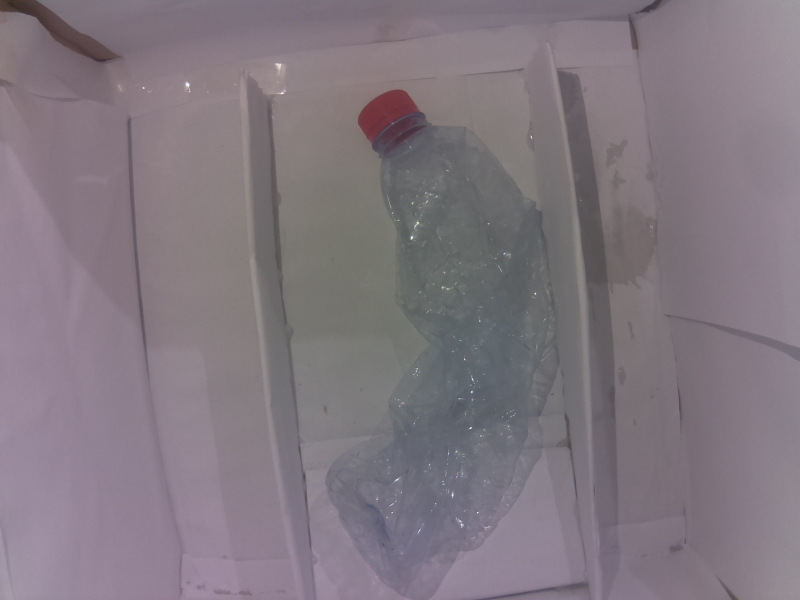botolplastik: (324, 93, 551, 600)
